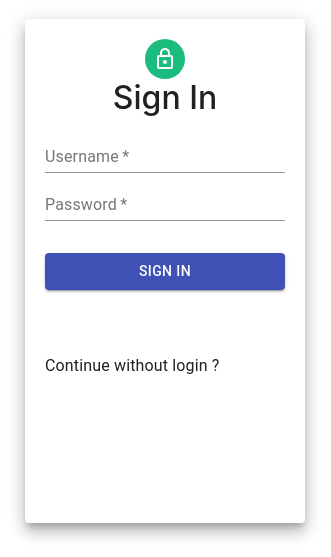
Invalid Login Test
The width and height of the screenshot is (331, 557).
Click the button with test id "check": (165, 272) top-left (45, 253), bottom-right (285, 290)
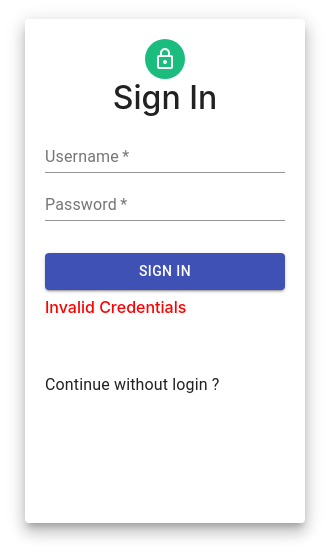
expect the heading with test id "invalid" shows "Invalid": met, box top-left (45, 297), bottom-right (186, 317)
